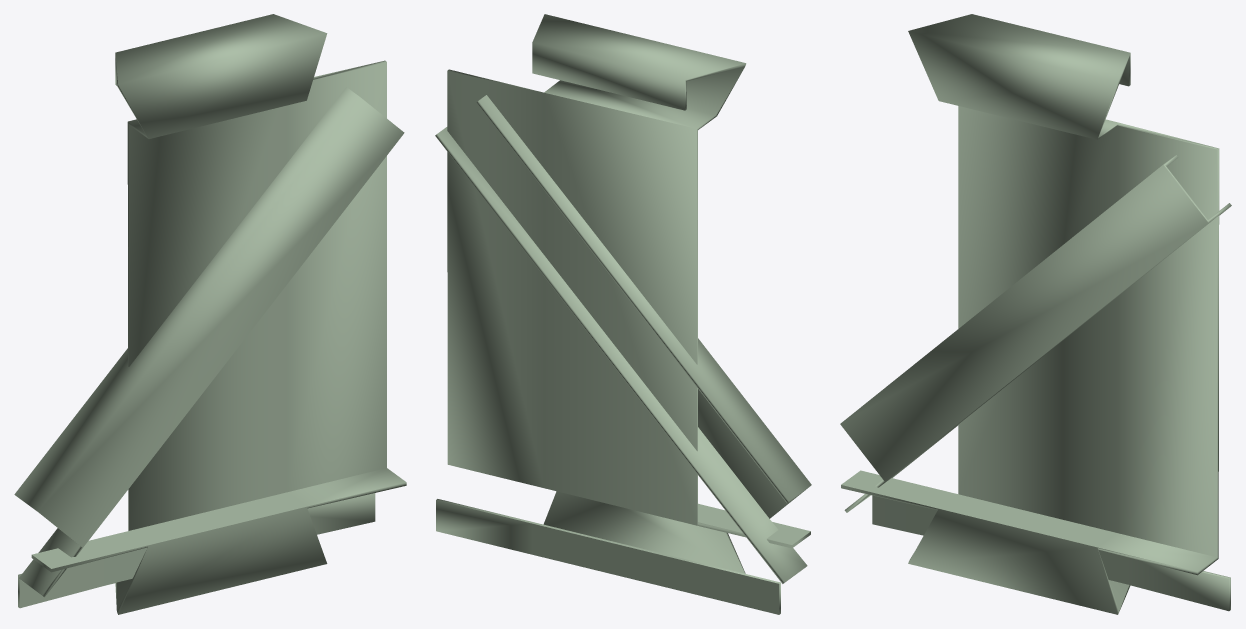
File: BoxPartical2.fbx
3 views of the same model, side by side, from view 1: azimuth 30°, elevation 25°; view 2: azimuth 150°, elevation 25°; view 3: azimuth 330°, elevation 25° (orthographic). The views are drawn at different scales.
Visible parts, largest first — view 1: crate_02; view 2: crate_02; view 3: crate_02.
Boxes of the visible parts, x1,y1,x2,y2 form: crate_02: (14,14,406,614); crate_02: (435,14,811,614); crate_02: (840,14,1231,614).
Bounding box in the file's own units: 1.12 × 1.55 × 0.1766.
